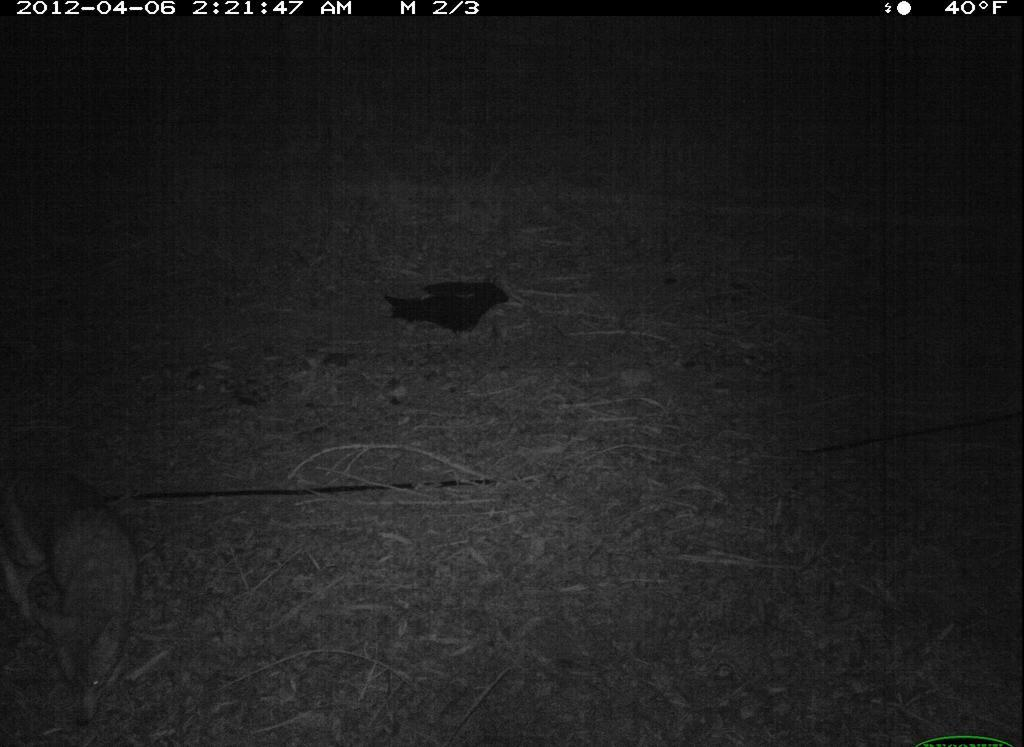coyote: (4, 464, 149, 730)
